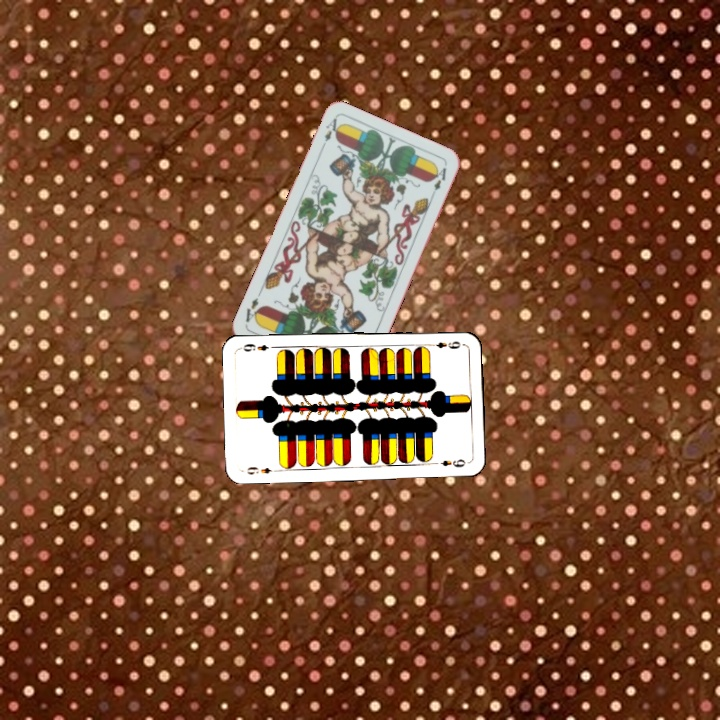E9: (426, 337, 463, 352), (243, 463, 280, 477)
EA: (317, 114, 343, 153)
